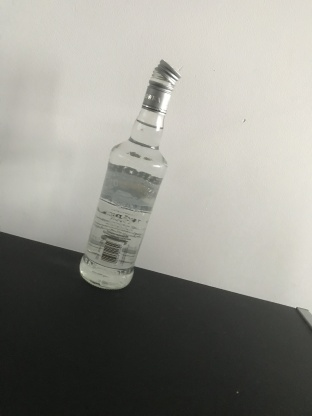nakretka: (140, 57, 182, 117)
